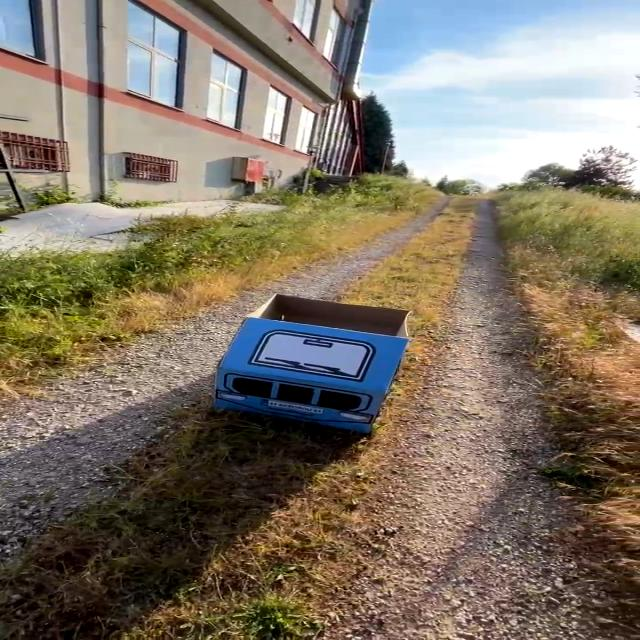blue_car: (162, 272, 457, 469)
